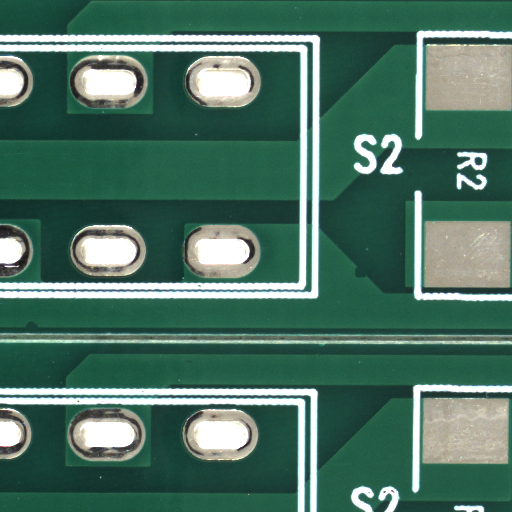Mouse_bite: (360, 272, 373, 283), (31, 325, 46, 334)
